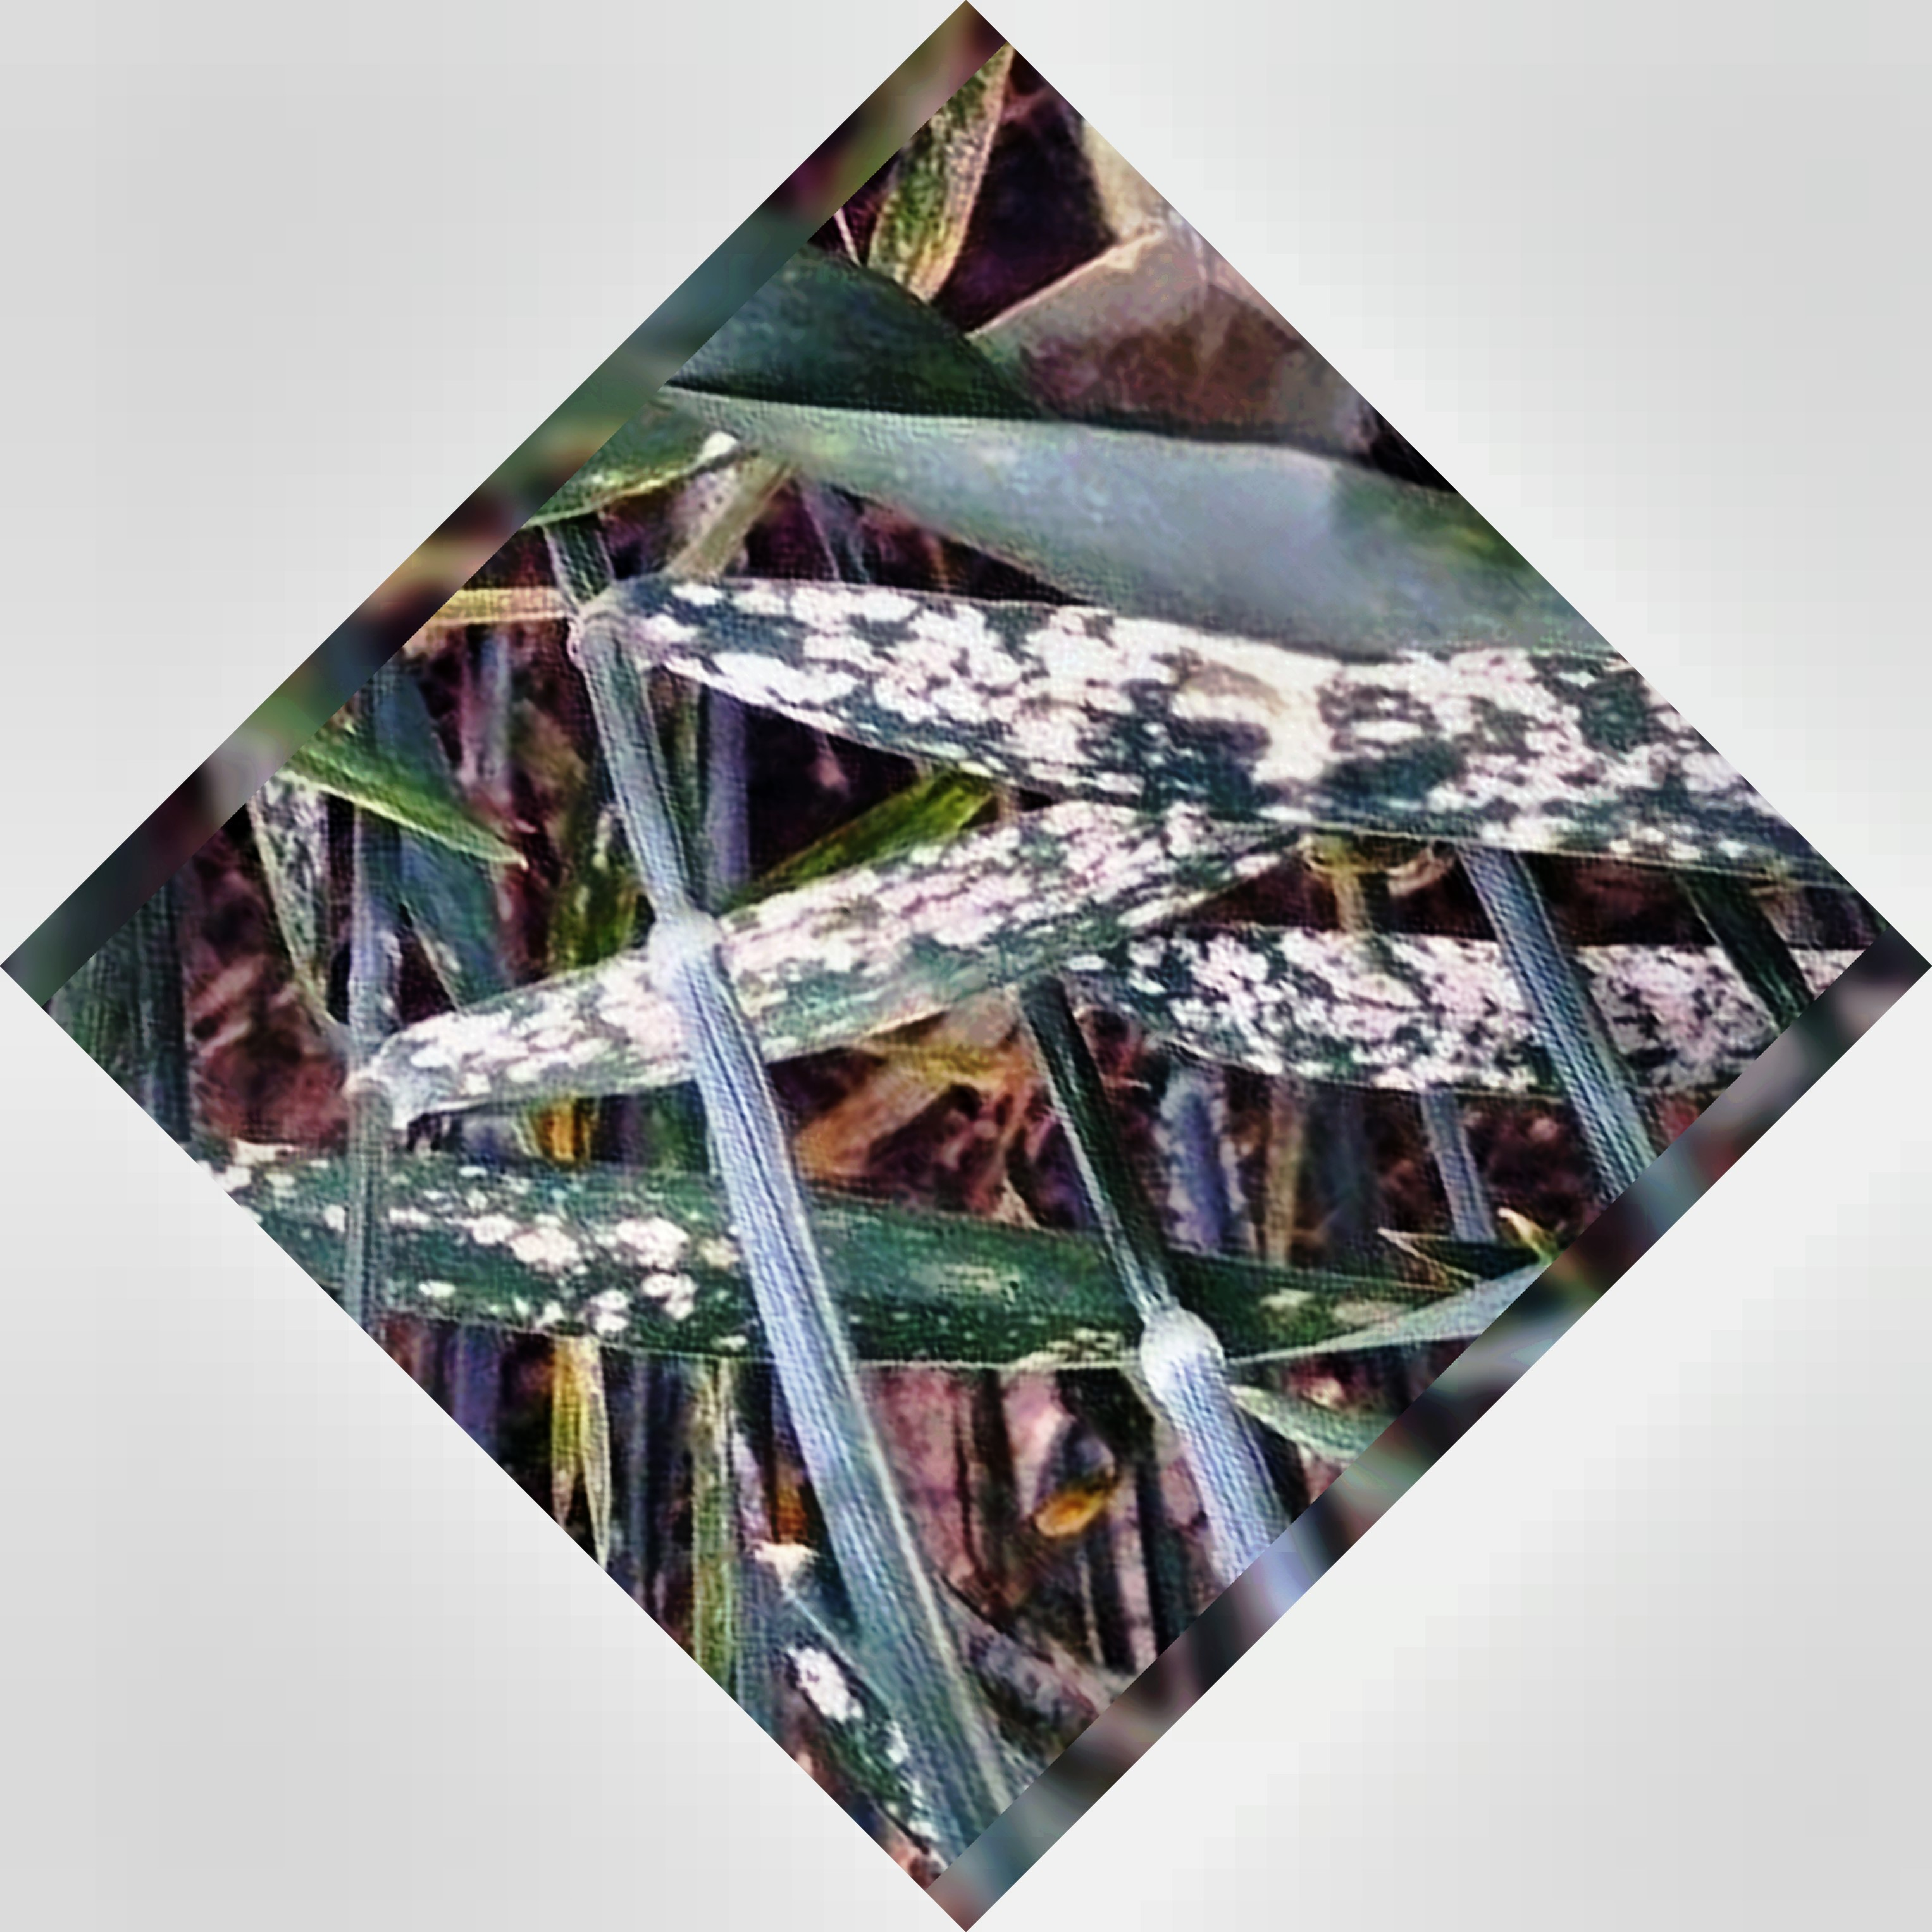Powdery Mildew: (725, 607, 1530, 1104)
